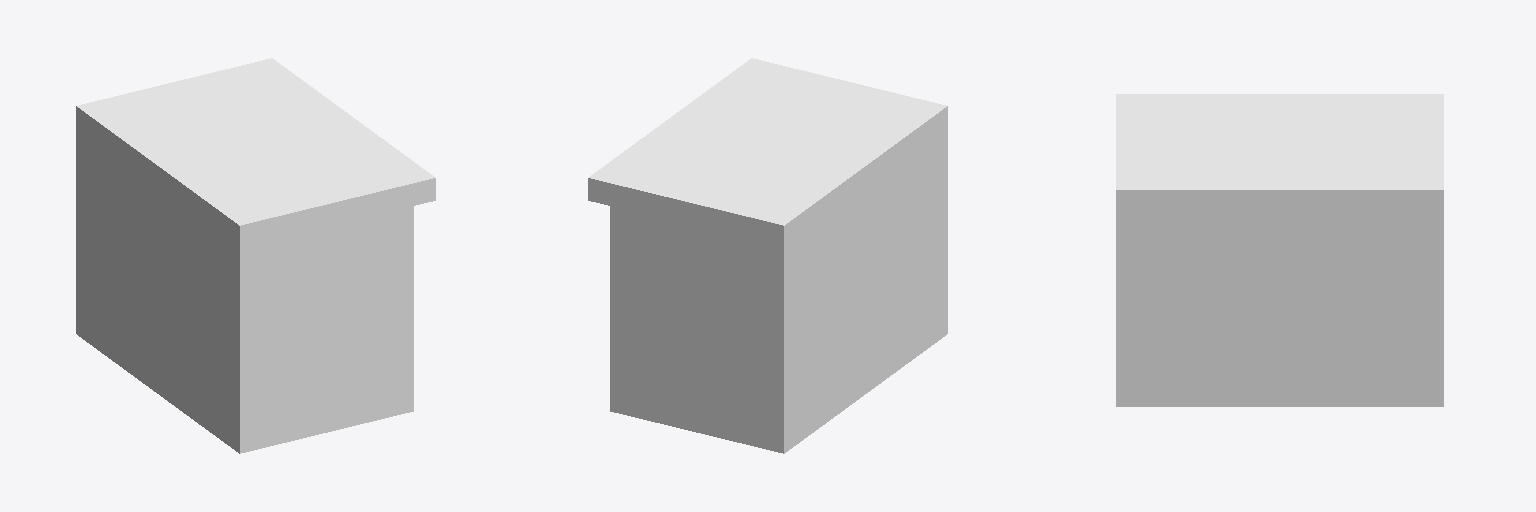
Rendered from tabletop.obj.
The picture shows the model from 3 angles: view 1: azimuth 30°, elevation 25°; view 2: azimuth 150°, elevation 25°; view 3: azimuth 270°, elevation 25°; orthographic projection.
Size of the model in its own units: 9 by 10 by 13.